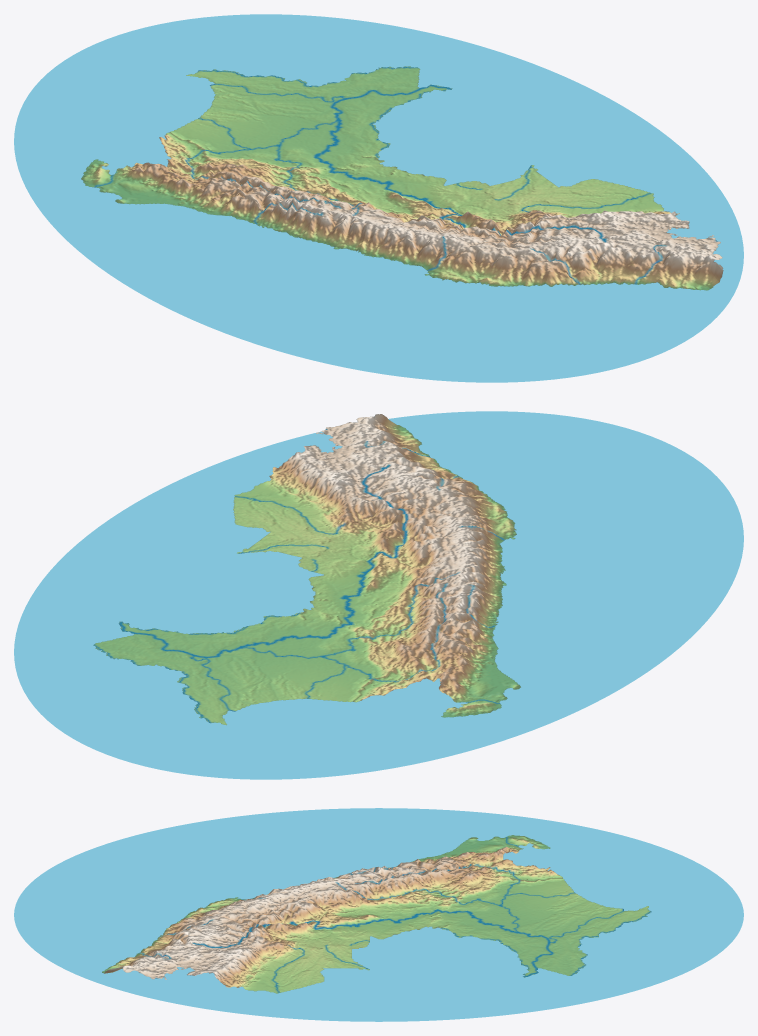
Rendered from PER-terrain.glb.
The picture shows the model from 3 angles, top to bottom: view 1: azimuth 30°, elevation 25°; view 2: azimuth 150°, elevation 25°; view 3: azimuth 270°, elevation 25°; orthographic projection. The views are drawn at different scales.
Parts seen in each view (by area): view 1: Relevo com hidrografia; view 2: Relevo com hidrografia; view 3: Relevo com hidrografia.
Part boxes in pixels (x1,y1,x2,y2): Relevo com hidrografia: [14, 14, 743, 382]; Relevo com hidrografia: [14, 411, 743, 779]; Relevo com hidrografia: [14, 808, 743, 1021].
Bounding box in the file's own units: 1.48 × 0.0508 × 2.13.
2 materials, 1 textured.
